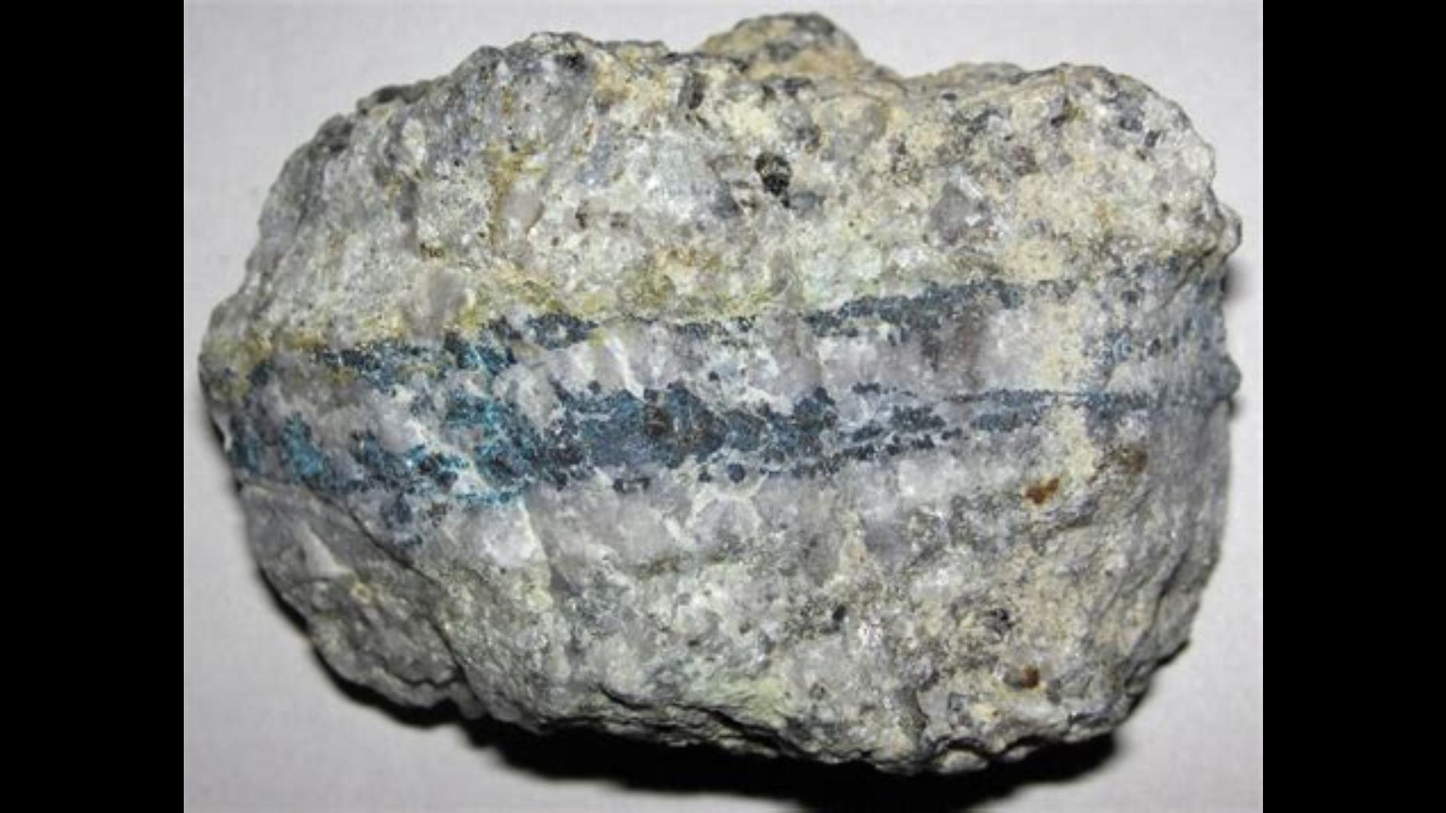rock: (204, 16, 1236, 770)
